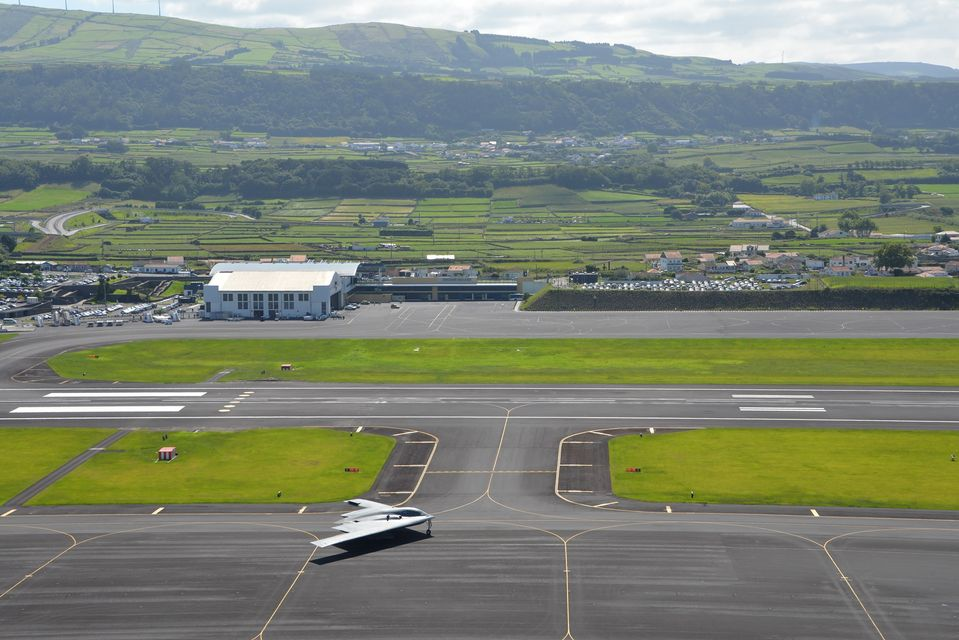B2: (309, 497, 437, 550)
